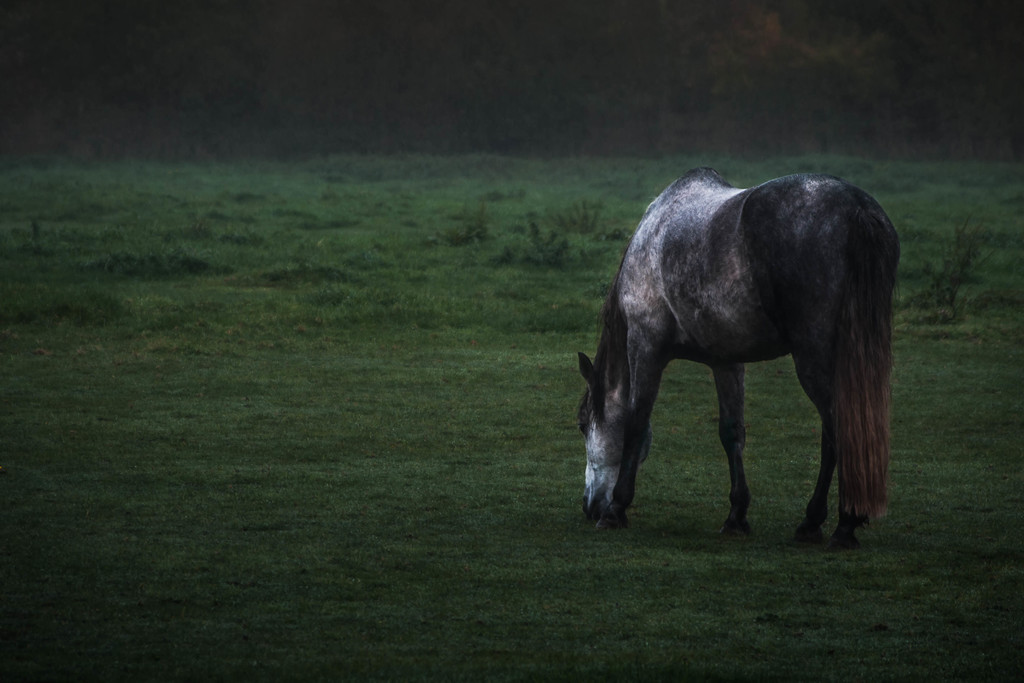horse: (581, 164, 902, 549)
